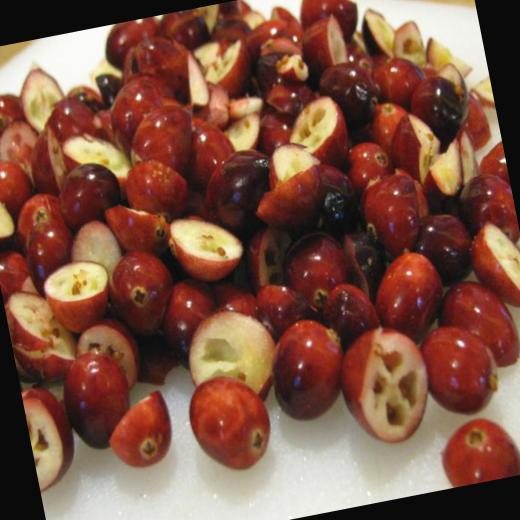Apple: (180, 366, 278, 479)
